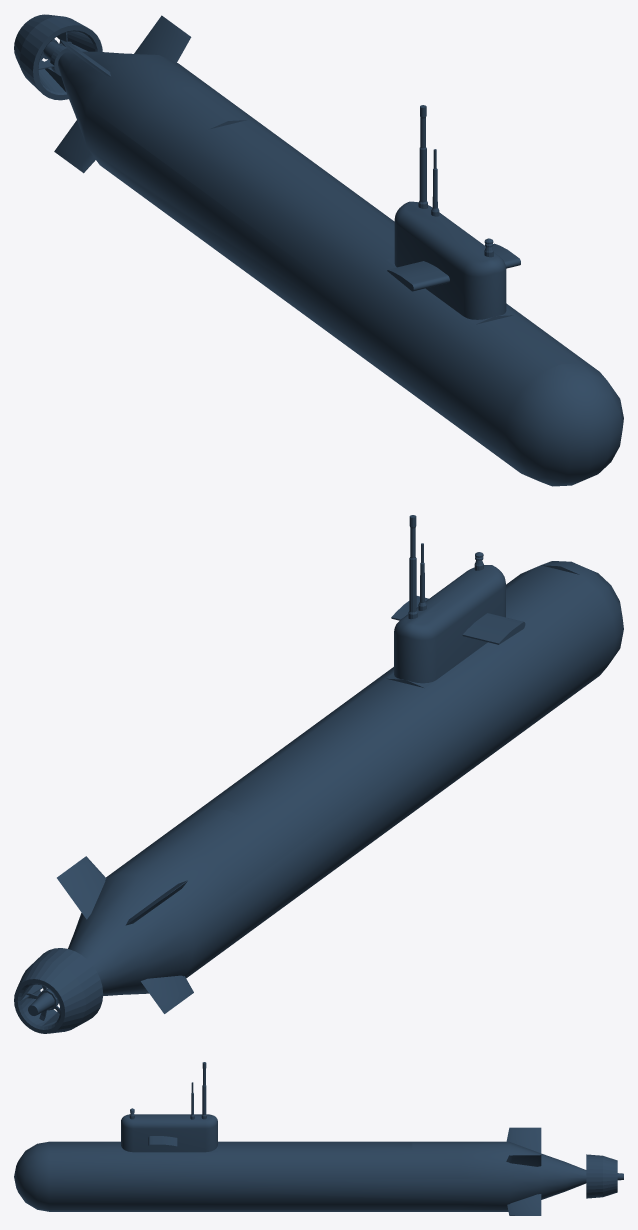
File: USOhioClassSubmarine.fbx
The picture shows the model from 3 angles, top to bottom: view 1: azimuth 30°, elevation 25°; view 2: azimuth 150°, elevation 25°; view 3: azimuth 270°, elevation 25°; orthographic projection. The views are drawn at different scales.
Visible parts, largest first — view 1: Submarine Hull, Submarine Sail, Rudder, Diving Planes, Periscope; view 2: Submarine Hull, Submarine Sail, Rudder, Diving Planes, Periscope; view 3: Submarine Hull, Submarine Sail, Rudder, Diving Planes, Periscope.
Part boxes in pixels (<box>): Submarine Hull: <box>14,14,623,486</box>; Submarine Sail: <box>386,201,513,324</box>; Rudder: <box>54,15,191,173</box>; Diving Planes: <box>387,243,520,291</box>; Periscope: <box>418,105,427,208</box>; Submarine Hull: <box>14,561,623,1033</box>; Submarine Sail: <box>386,565,505,687</box>; Rudder: <box>57,856,193,1013</box>; Diving Planes: <box>391,596,525,644</box>; Periscope: <box>408,515,417,619</box>; Submarine Hull: <box>14,1141,623,1211</box>; Submarine Sail: <box>121,1114,217,1152</box>; Rudder: <box>506,1127,541,1215</box>; Diving Planes: <box>148,1136,177,1148</box>; Periscope: <box>201,1062,206,1119</box>.
Bounding box in the file's own units: 211 × 462 × 1735.
